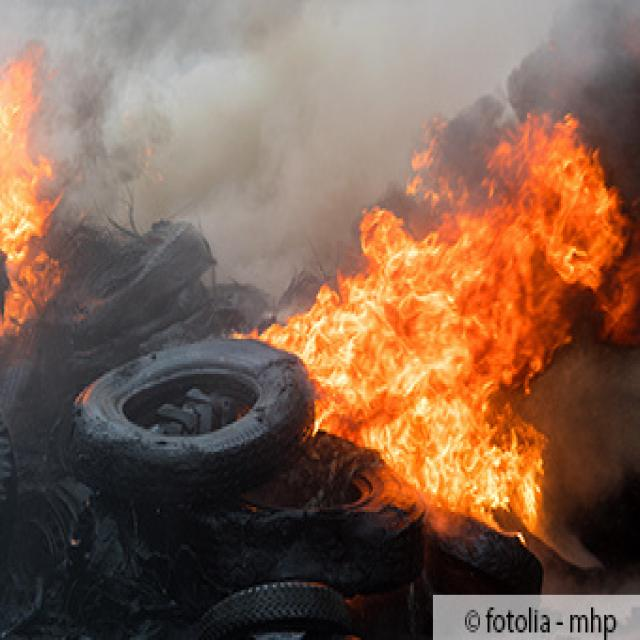fire: (229, 110, 640, 534), (1, 39, 64, 336)
